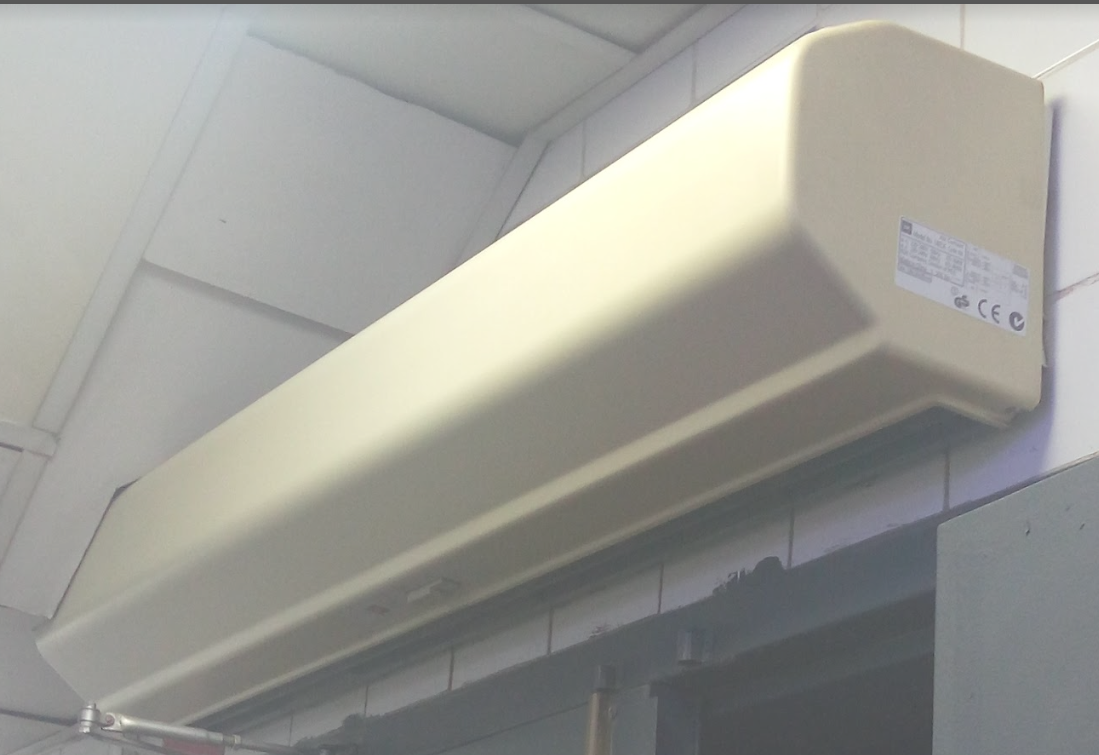Air Curtain: (29, 30, 1062, 722)
